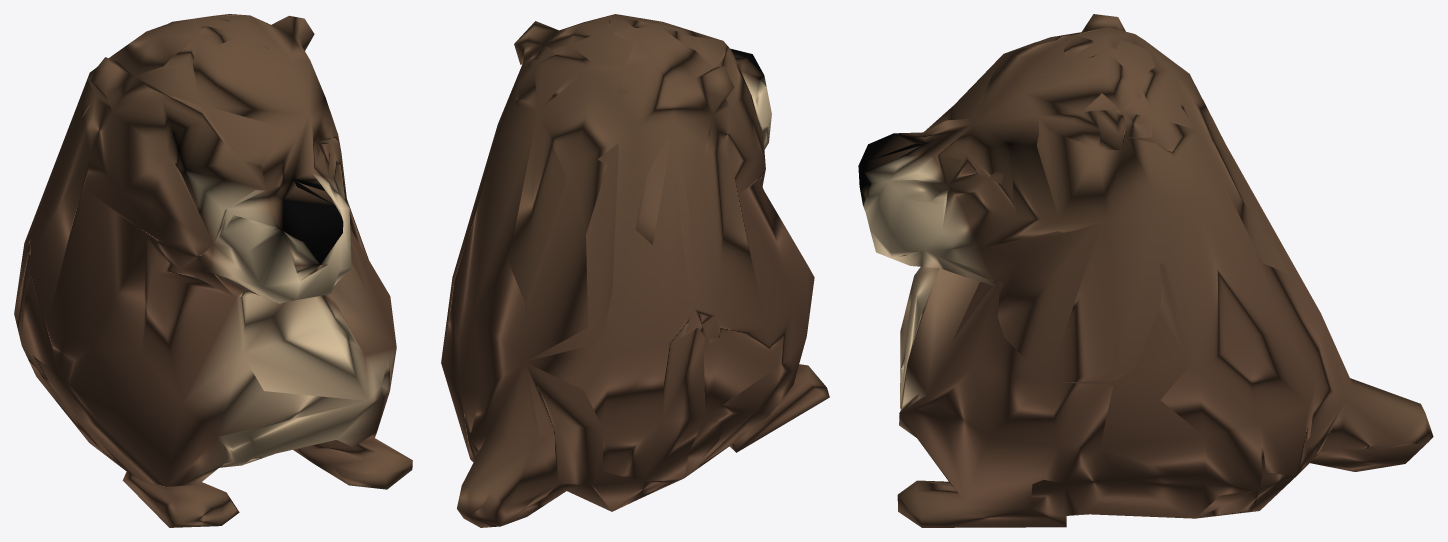
File: gen3d-otter-lod1.glb
3 views of the same model, side by side, from view 1: azimuth 30°, elevation 25°; view 2: azimuth 150°, elevation 25°; view 3: azimuth 270°, elevation 25° (orthographic). The views are drawn at different scales.
Parts seen in each view (by area): view 1: part_0; view 2: part_0; view 3: part_0.
Boxes of the visible parts, x1,y1,x2,y2 form: part_0: (14,14,412,527); part_0: (441,14,829,527); part_0: (858,14,1433,527).
Size of the model in its own units: 0.7279 by 0.9994 by 1.18.
